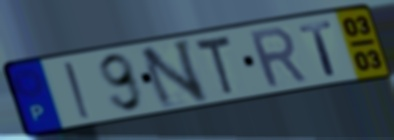9: (97, 51, 146, 114)
I: (60, 59, 95, 122)
N: (136, 36, 211, 112)
R: (245, 24, 311, 91)
T: (192, 33, 238, 97), (295, 18, 340, 78)
